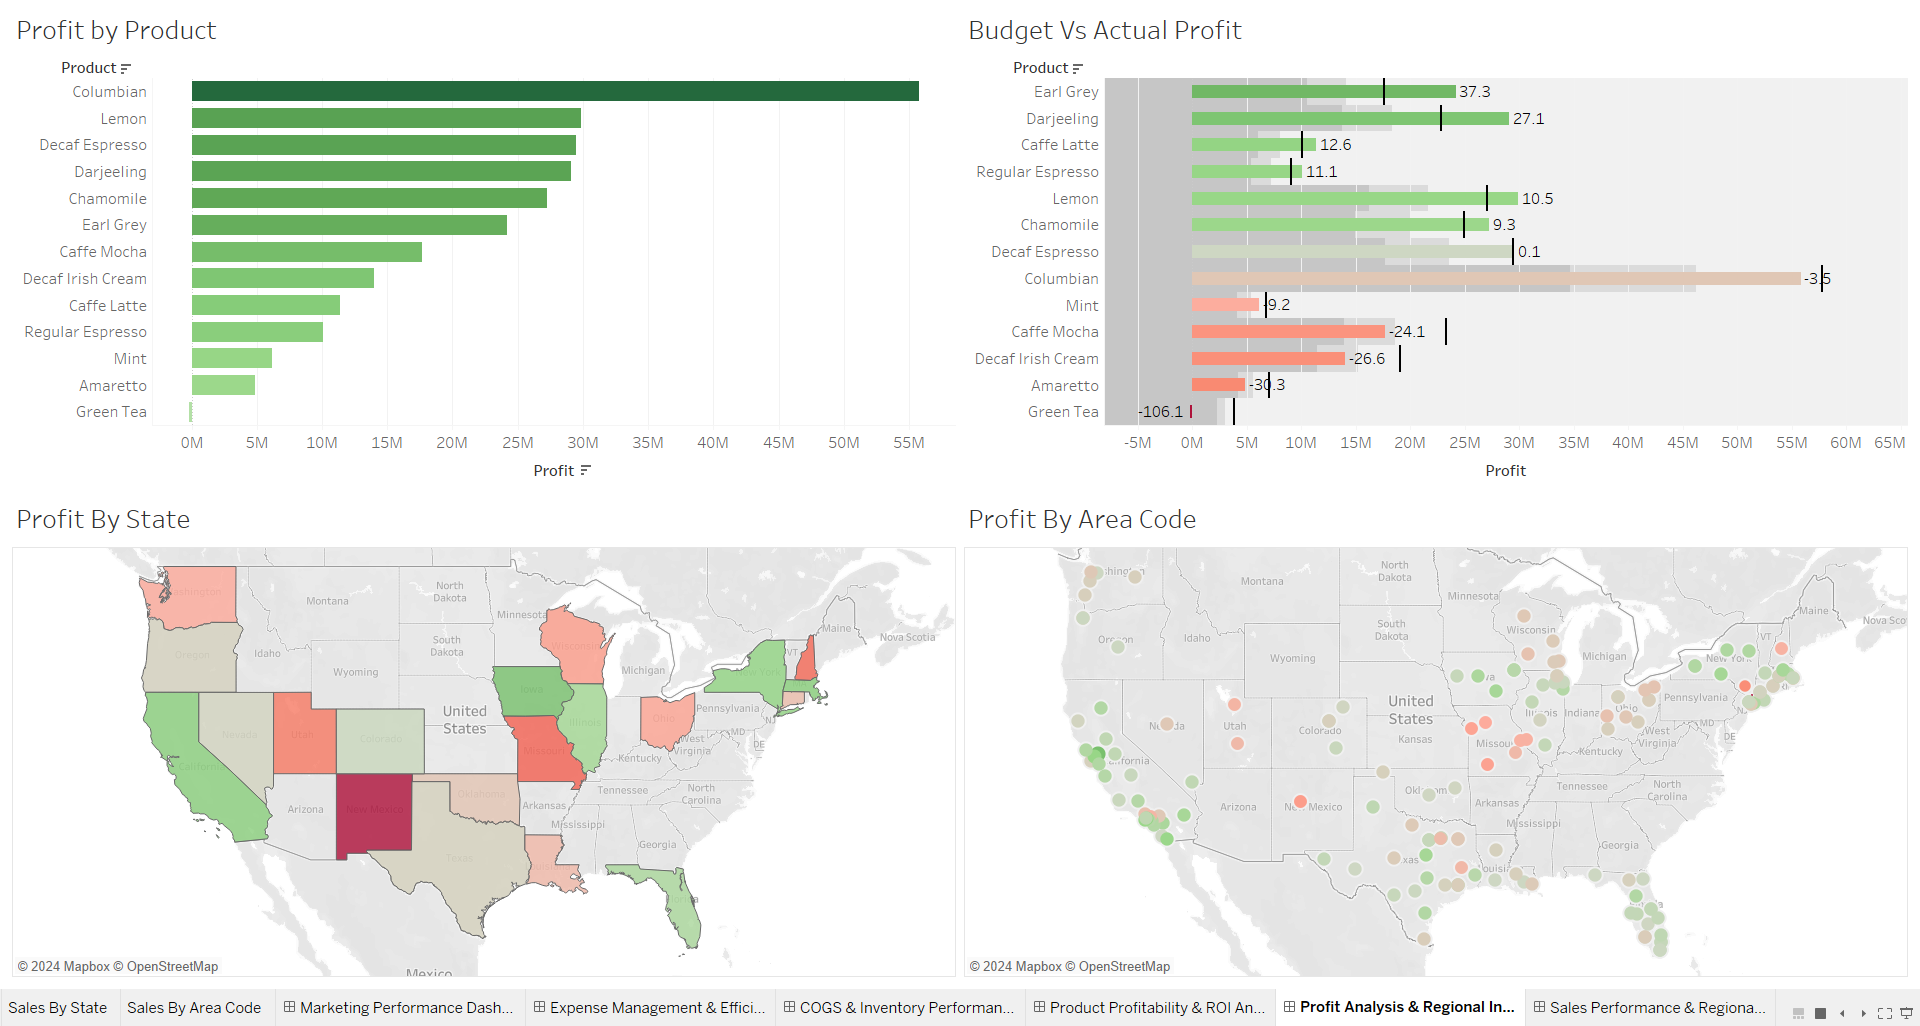

This screenshot's page, from the dashboard's own definition file:
{"tool":"tableau","page":{"name":"Profit Analysis & Regional Insights Dashboard","canvas":[1000,1000],"units":"permille","ordinal":4},"visuals":[{"type":"worksheet","title":"Profit by Product","mark":"Automatic","rows":["Product"],"cols":["Profit"],"box":[4.9,10,495.2,490]},{"type":"worksheet","title":"Profit Comparison","mark":"Automatic","rows":["Product"],"cols":["Profit"],"box":[500,10,495.2,490]},{"type":"worksheet","title":"Profit By State","mark":"Automatic","box":[4.9,500,495.2,490]},{"type":"worksheet","title":"Profit By Area Code","mark":"Automatic","box":[500,500,495.2,490]}]}

Visuals, with their boxes on the dashboard's canvas, which has no fixed pixel size, in thousandths of its width and height (x1, y1, x2, y2). These are canvas units, not pixel positions in the 1920x1026 screenshot, which may show the page scaled, cropped or inside an application window:
"Profit by Product" worksheet: bbox=(5, 10, 500, 500)
"Profit Comparison" worksheet: bbox=(500, 10, 995, 500)
"Profit By State" worksheet: bbox=(5, 500, 500, 990)
"Profit By Area Code" worksheet: bbox=(500, 500, 995, 990)
